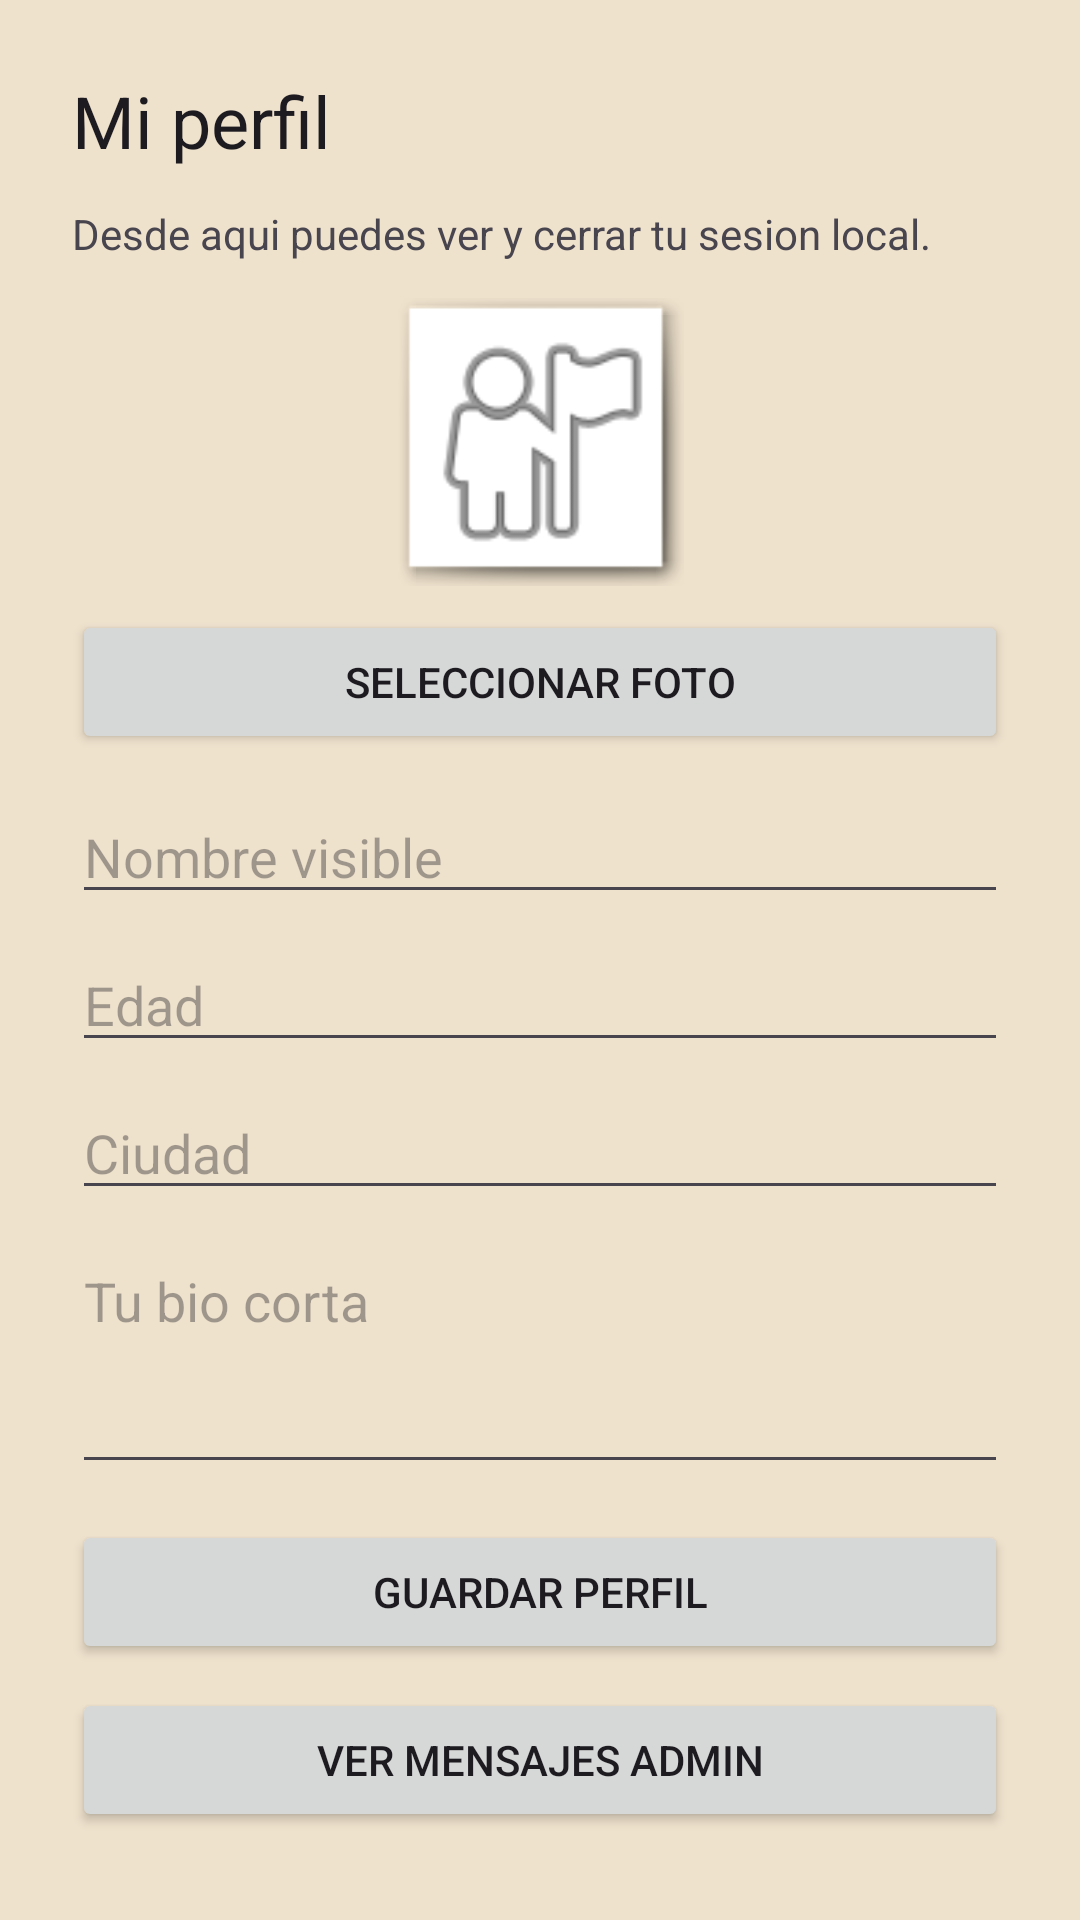

Named icons in this screenshot (1080px x 1920px) and their centers, [x,y]:
Foto de perfil: [542,444]
